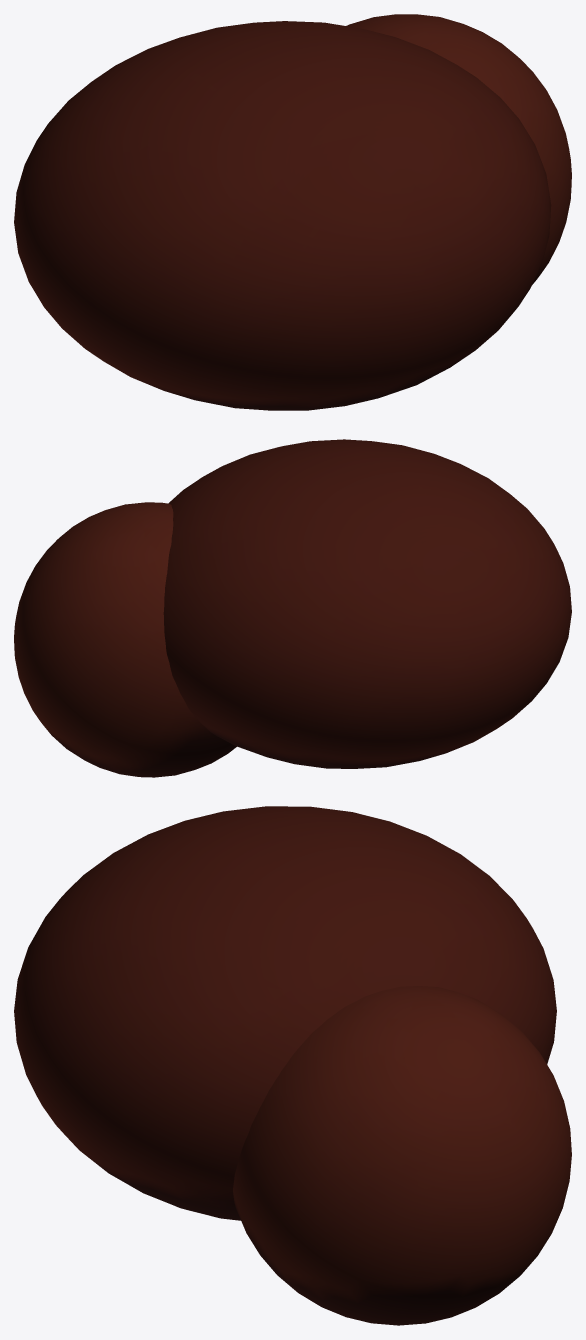
Rendered from clay-lump.obj.
3 renders of one model, top to bottom at view 1: azimuth 30°, elevation 25°; view 2: azimuth 150°, elevation 25°; view 3: azimuth 270°, elevation 25°, orthographic. The views are drawn at different scales.
Parts seen in each view (by area): view 1: clay-lump; view 2: clay-lump; view 3: clay-lump.
Boxes of the visible parts, left/top/right/bottom form: clay-lump: left=14, top=14, right=571, bottom=410; clay-lump: left=14, top=439, right=571, bottom=777; clay-lump: left=14, top=806, right=571, bottom=1325.
Size of the model in its own units: 0.4865 by 0.2971 by 0.4028.
